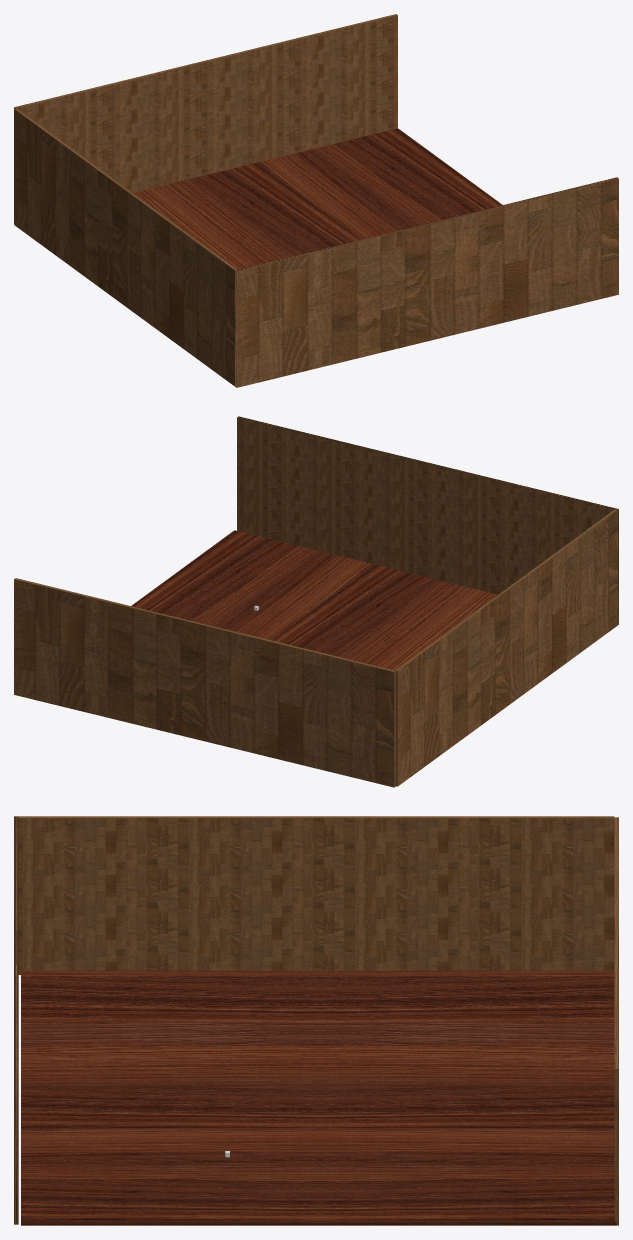
The model's file is arena_level1.glb.
3 renders of one model, top to bottom at view 1: azimuth 30°, elevation 25°; view 2: azimuth 150°, elevation 25°; view 3: azimuth 270°, elevation 25°, orthographic. The views are drawn at different scales.
Parts seen in each view (by area): view 1: firstWall, secondWall, ground, third wall; view 2: secondWall, firstWall, ground, third wall; view 3: ground, third wall, firstWall, secondWall.
Boxes of the visible parts, box(x1,y1,x2,y2) form: firstWall: box(235, 177, 618, 387); secondWall: box(14, 14, 397, 223); ground: box(133, 128, 502, 269); third wall: box(14, 108, 239, 387); secondWall: box(14, 578, 395, 787); firstWall: box(237, 416, 618, 624); ground: box(131, 530, 497, 670); third wall: box(395, 509, 618, 786); ground: box(21, 970, 616, 1225); third wall: box(15, 816, 614, 974); firstWall: box(14, 816, 18, 1224); secondWall: box(614, 817, 618, 1225).
Size of the model in its own units: 249 by 72.02 by 252.
4 materials, 4 textured.
